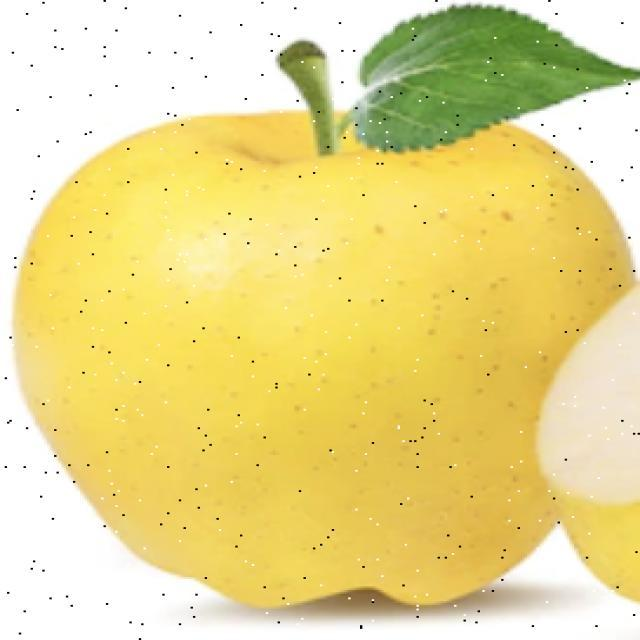Fresh Apple: (70, 96, 585, 640)
